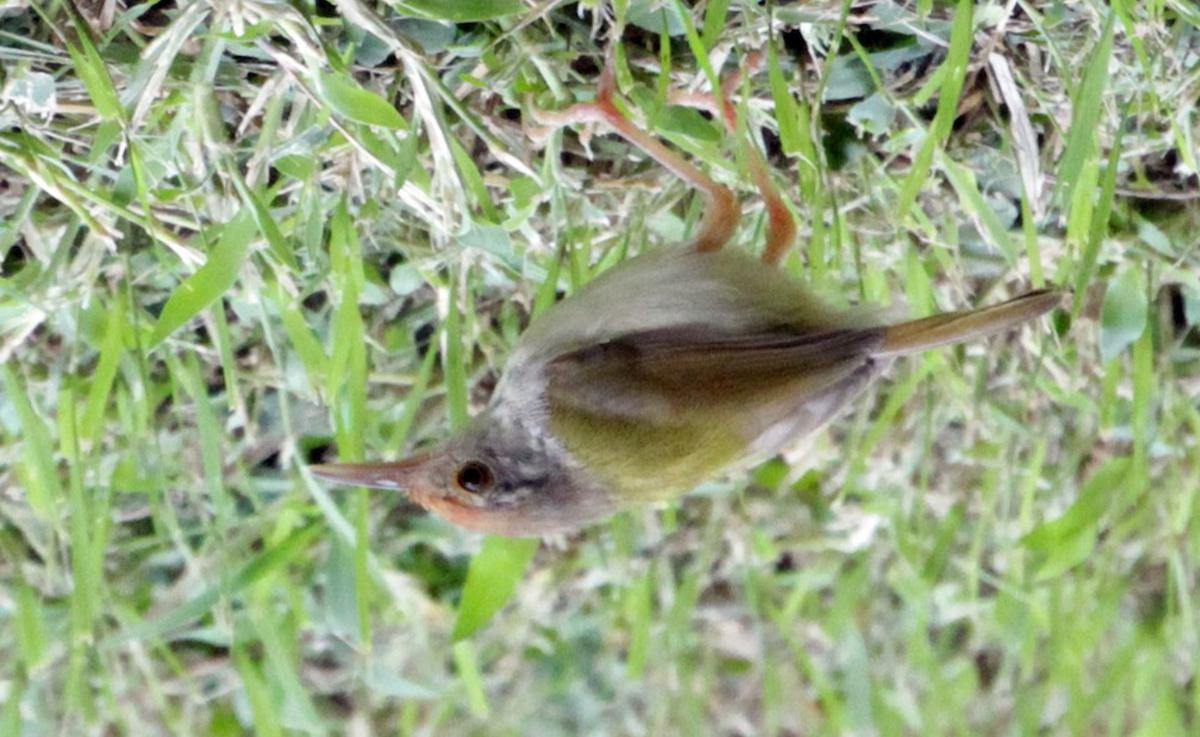tailorbird: (287, 88, 1109, 591)
